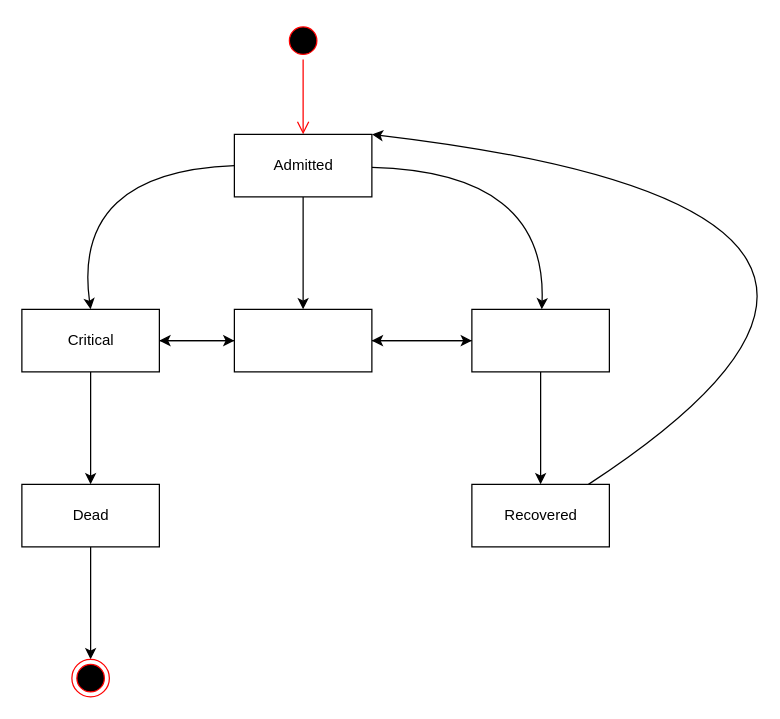
Image size: 780x719. Some labels were removed from this diagram. Each missing label, with the box of its shape:
Serious: (233, 308, 372, 372)
Stable: (471, 308, 609, 372)
